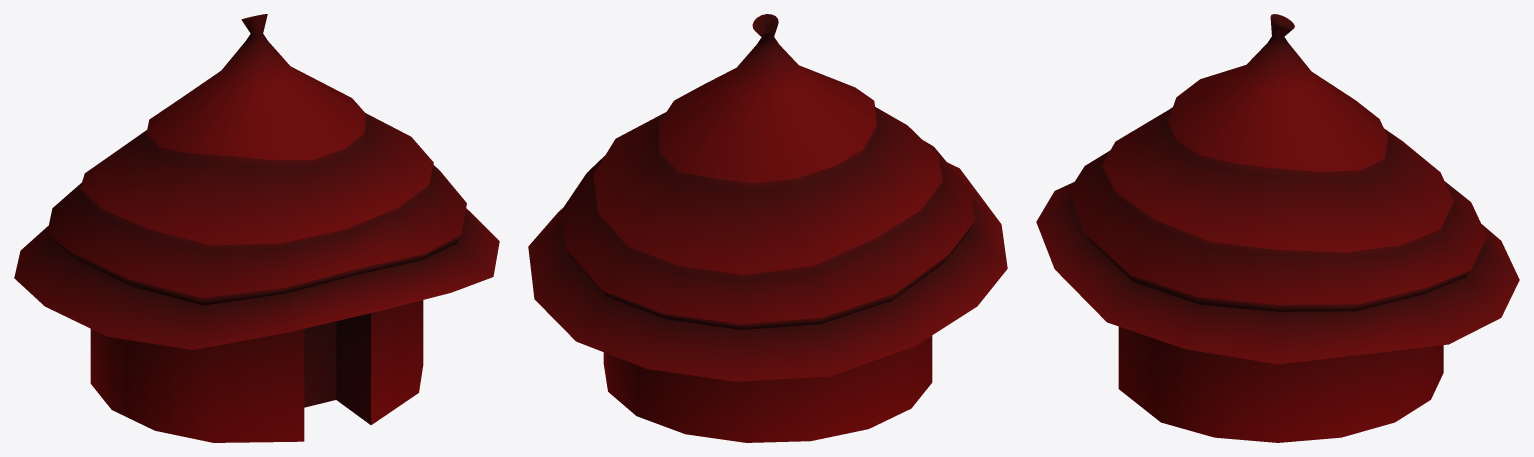
File: buildings-historical-roundhouse_v3.fbx
3 renders of one model, left to right at view 1: azimuth 30°, elevation 25°; view 2: azimuth 150°, elevation 25°; view 3: azimuth 270°, elevation 25°, orthographic.
Visible parts, largest first — view 1: Roundhouse_v3; view 2: Roundhouse_v3; view 3: Roundhouse_v3.
Boxes of the visible parts, <box> form: Roundhouse_v3: <box>14,14,499,442</box>; Roundhouse_v3: <box>528,14,1007,442</box>; Roundhouse_v3: <box>1036,14,1519,442</box>.
Size of the model in its own units: 9.19 by 7.47 by 9.19.
